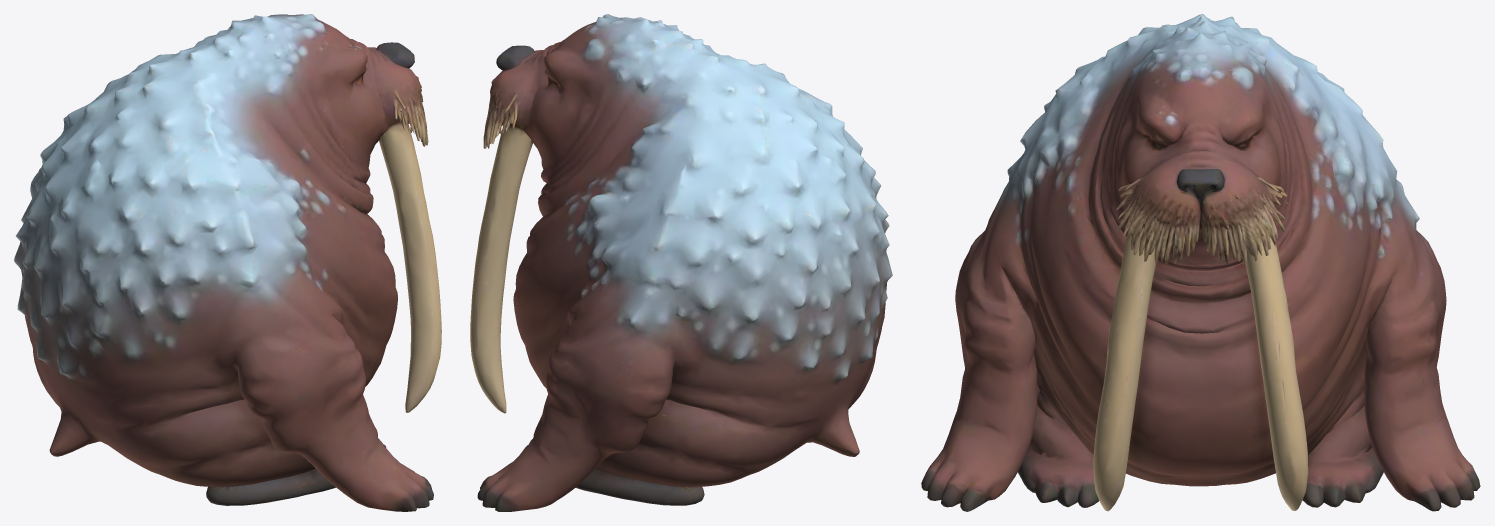
The model's file is walrus.glb.
3 renders of one model, left to right at view 1: azimuth 30°, elevation 25°; view 2: azimuth 150°, elevation 25°; view 3: azimuth 270°, elevation 25°, orthographic. The views are drawn at different scales.
Parts seen in each view (by area): view 1: geometry_0; view 2: geometry_0; view 3: geometry_0.
Boxes of the visible parts, <box> form: geometry_0: <box>14,14,441,511</box>; geometry_0: <box>470,14,892,511</box>; geometry_0: <box>921,14,1480,511</box>.
Size of the model in its own units: 0.8215 by 0.8829 by 0.9975.
1 material, 1 textured.
